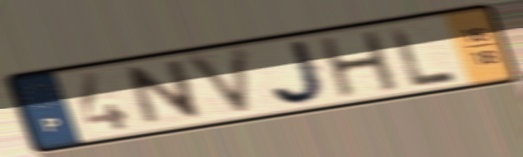4: (81, 69, 133, 134)
H: (316, 28, 404, 101)
J: (268, 37, 332, 107)
L: (386, 23, 461, 90)
N: (122, 57, 207, 130)
V: (179, 42, 258, 120)
